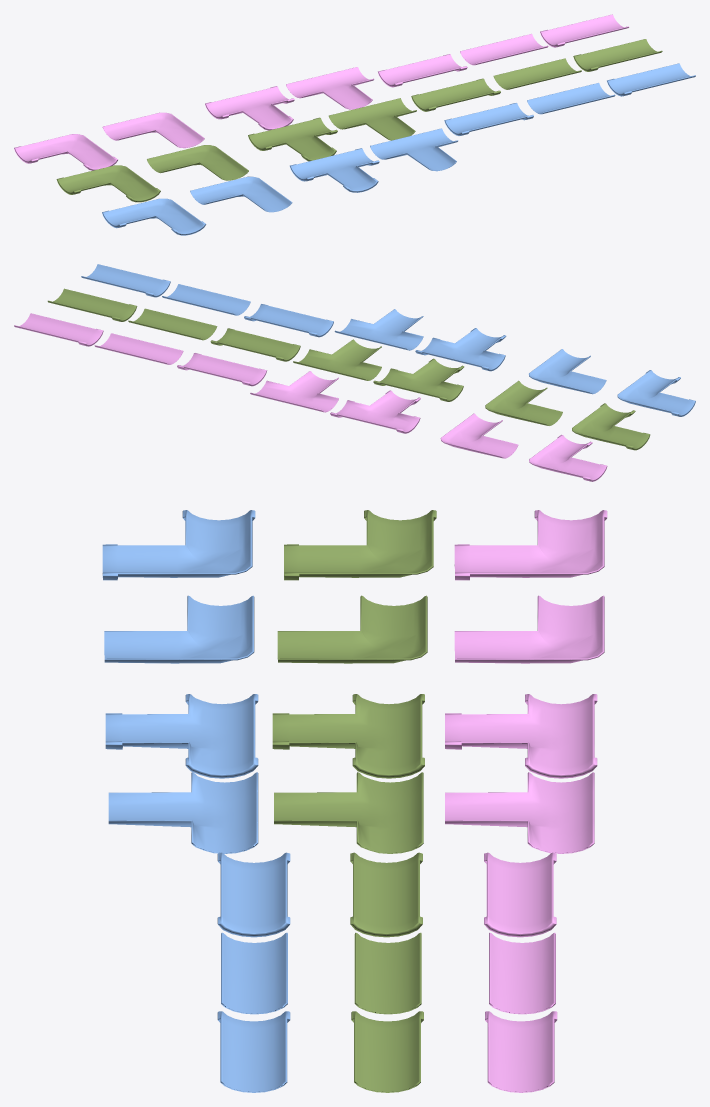
Rendered from Tubes_3colors_Kit.fbx.
3 views of the same model, one above another, from view 1: azimuth 30°, elevation 25°; view 2: azimuth 150°, elevation 25°; view 3: azimuth 270°, elevation 25° (orthographic). The views are drawn at different scales.
Visible parts, largest first — view 1: T_T_tube_B, T_T_tube_P, T_T_tube_G, C_T_tube_G, C_T_tube_B, T_tube_P, T_tube_B, T_tube_G, C_T_tube_P, C_tube_P, C_tube_G, C_tube_B (+9 smaller); view 2: T_T_tube_P, T_T_tube_B, T_T_tube_G, T_tube_G, T_tube_B, T_tube_P, C_T_tube_G, C_T_tube_B, C_T_tube_P, C_tube_P, C_tube_G, C_tube_B (+9 smaller); view 3: T_T_tube_B, T_T_tube_G, T_T_tube_P, T_tube_B, T_tube_G, T_tube_P, C_T_tube_B, C_T_tube_P, C_T_tube_G, C_tube_G, C_tube_B, C_tube_P (+9 smaller).
Part boxes in pixels (bbox=[...]): T_T_tube_B: bbox=[289, 148, 379, 192]; T_T_tube_P: bbox=[205, 86, 294, 130]; T_T_tube_G: bbox=[248, 117, 337, 161]; C_T_tube_G: bbox=[56, 165, 160, 202]; C_T_tube_B: bbox=[102, 198, 206, 235]; T_tube_P: bbox=[286, 67, 374, 109]; T_tube_B: bbox=[370, 128, 458, 171]; T_tube_G: bbox=[328, 98, 416, 140]; C_T_tube_P: bbox=[14, 134, 117, 170]; C_tube_P: bbox=[102, 112, 204, 148]; C_tube_G: bbox=[147, 145, 248, 180]; C_tube_B: bbox=[190, 176, 292, 212]; T_T_tube_P: bbox=[330, 390, 420, 433]; T_T_tube_B: bbox=[415, 328, 506, 371]; T_T_tube_G: bbox=[373, 358, 464, 401]; T_tube_G: bbox=[293, 339, 381, 380]; T_tube_B: bbox=[334, 309, 423, 350]; T_tube_P: bbox=[250, 371, 338, 412]; C_T_tube_G: bbox=[572, 403, 650, 450]; C_T_tube_B: bbox=[617, 370, 695, 416]; C_T_tube_P: bbox=[529, 434, 607, 481]; C_tube_P: bbox=[440, 413, 518, 458]; C_tube_G: bbox=[485, 380, 562, 425]; C_tube_B: bbox=[528, 349, 606, 394]; T_T_tube_B: bbox=[105, 694, 258, 778]; T_T_tube_G: bbox=[272, 694, 424, 778]; T_T_tube_P: bbox=[445, 694, 597, 778]; T_tube_B: bbox=[108, 772, 258, 853]; T_tube_G: bbox=[274, 772, 423, 853]; T_tube_P: bbox=[445, 772, 594, 853]; C_T_tube_B: bbox=[102, 510, 255, 580]; C_T_tube_P: bbox=[454, 510, 607, 580]; C_T_tube_G: bbox=[284, 510, 436, 580]; C_tube_G: bbox=[277, 595, 427, 663]; C_tube_B: bbox=[104, 595, 254, 663]; C_tube_P: bbox=[454, 595, 604, 663].
Size of the model in its own units: 40.79 by 0.4924 by 15.23.
